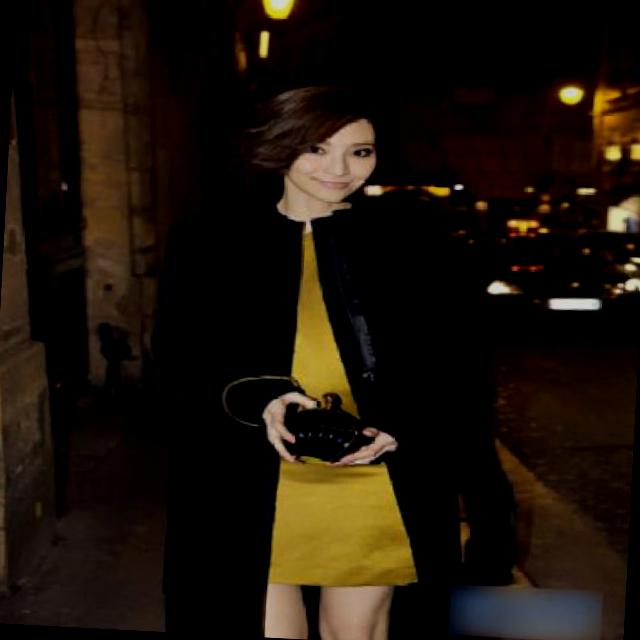Person: (113, 45, 562, 640)
